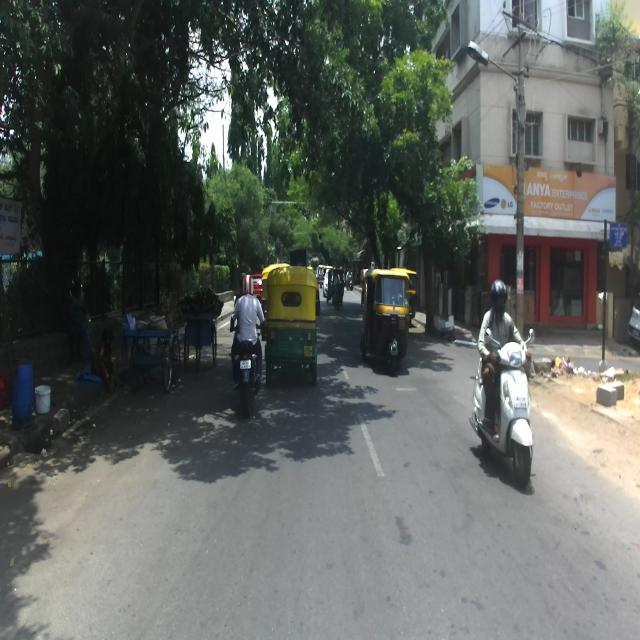auto ahead at: (267, 258, 321, 382), (362, 257, 412, 383)
motorcycle ahead at: (472, 329, 538, 490), (226, 340, 268, 408)
